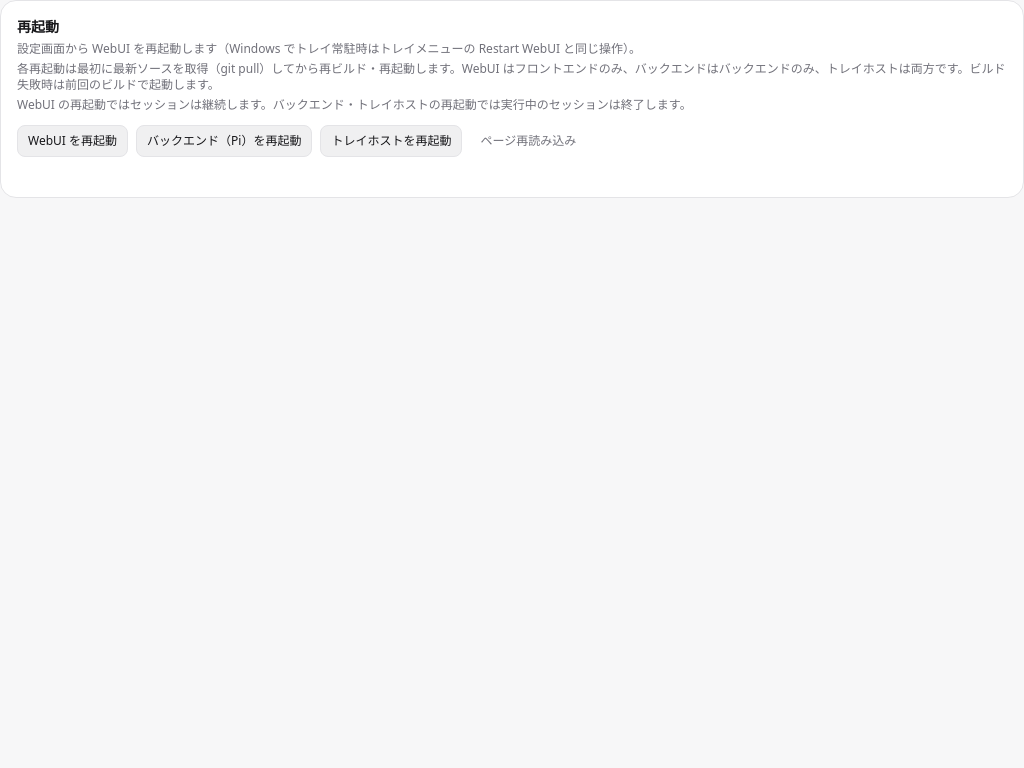
Test: HostRestartPanel › 実行中の Goal Loop は確認ダイアログで先に知らせ、再起動を押せなくする
The image size is (1024, 768).
Click the button "トレイホストを再起動" at (391, 141), box [320,125,462,157]
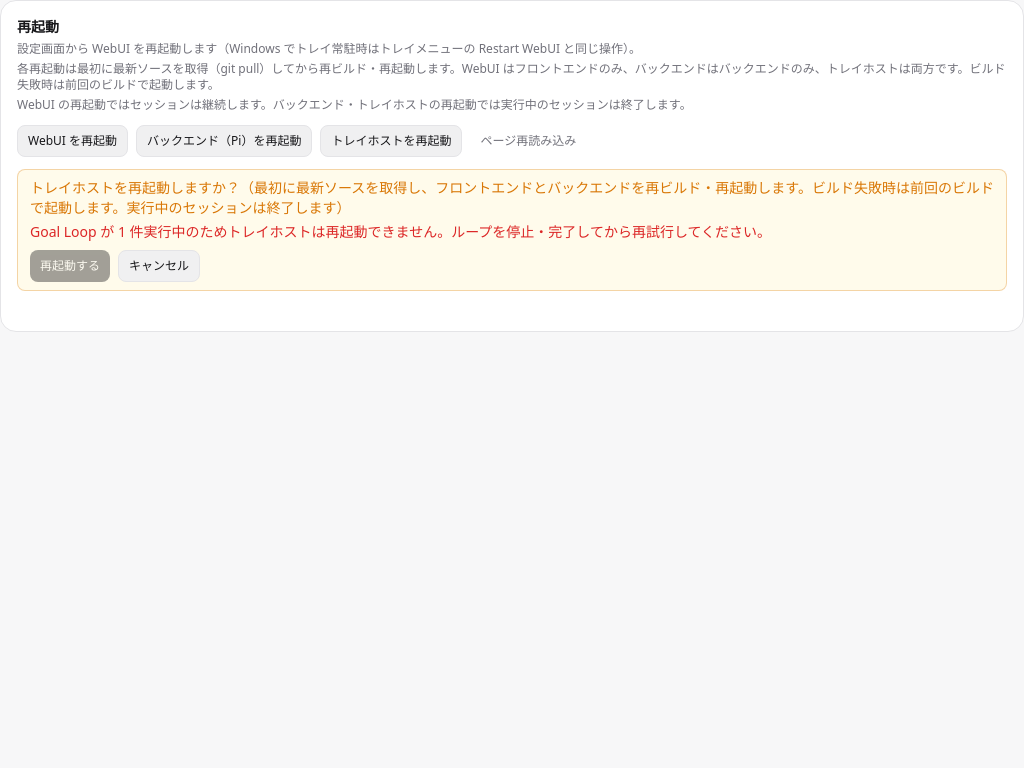
Expected: the 1st message shows "Goal Loop が 1 件実行中", [30,222,771,241]
Expected: the button "再起動する" is disabled, [30,250,110,282]
